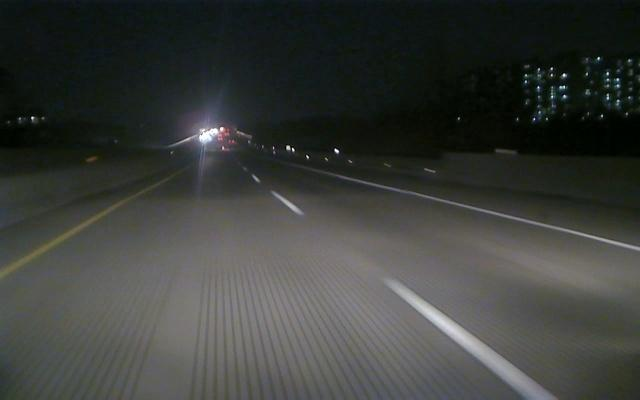lane: (274, 192, 564, 400), (331, 172, 640, 251), (1, 198, 131, 279)
